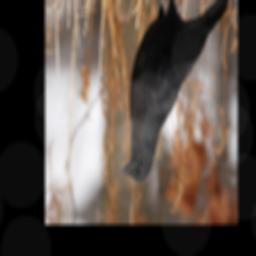Crow: (119, 0, 234, 193)
